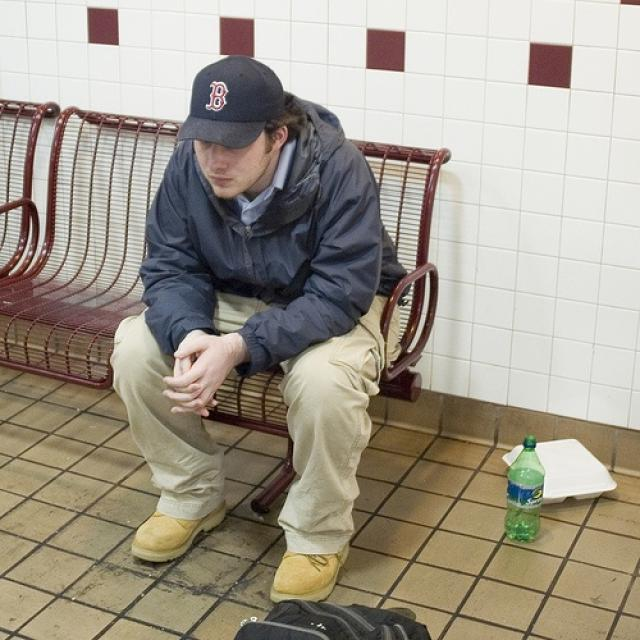bottle: (503, 435, 544, 543)
